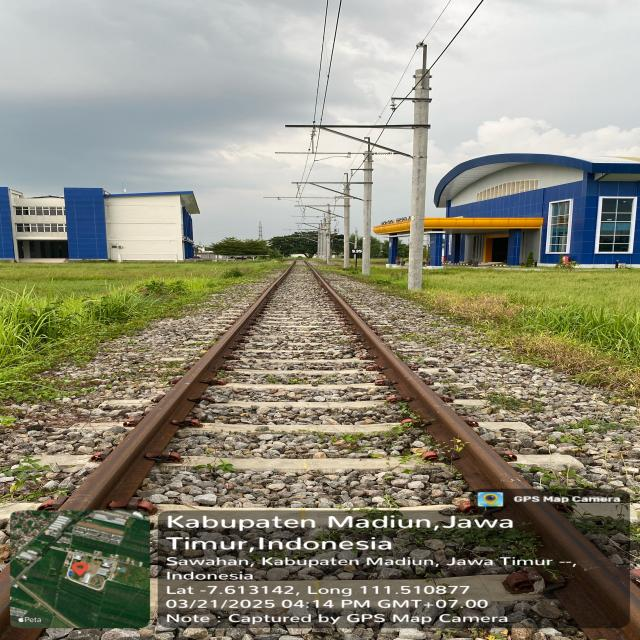rail-detection: (304, 259, 637, 635), (61, 259, 296, 510)
